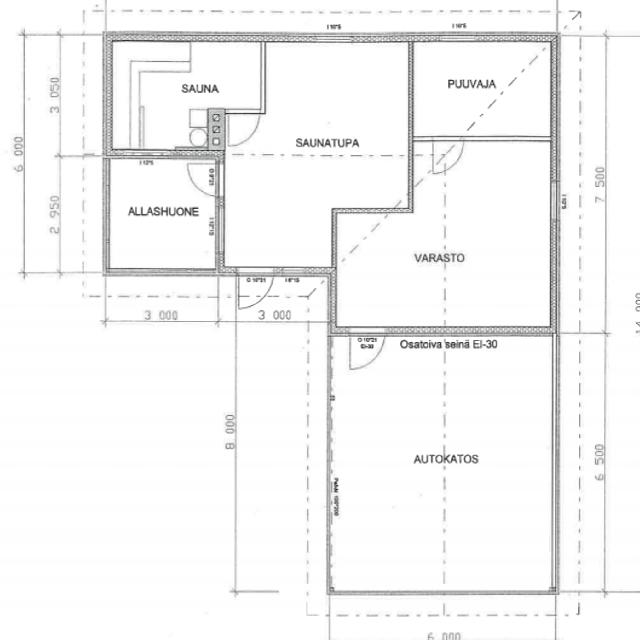door: (350, 326, 386, 374), (238, 267, 274, 312), (185, 164, 225, 197), (228, 109, 260, 147), (434, 136, 464, 173)
